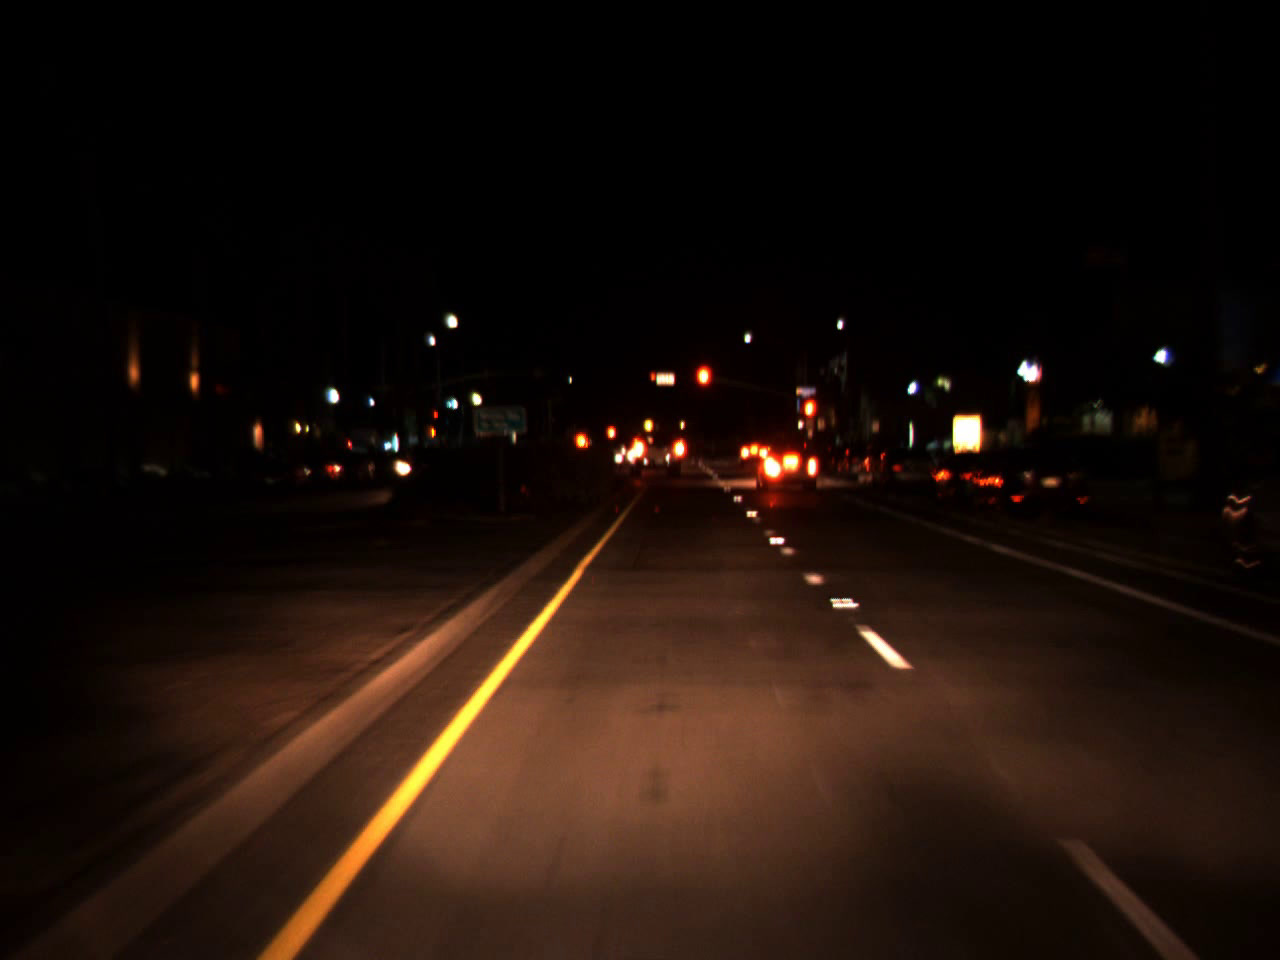stop: (693, 361, 714, 409), (801, 395, 819, 443), (651, 372, 657, 388), (433, 410, 439, 426)
